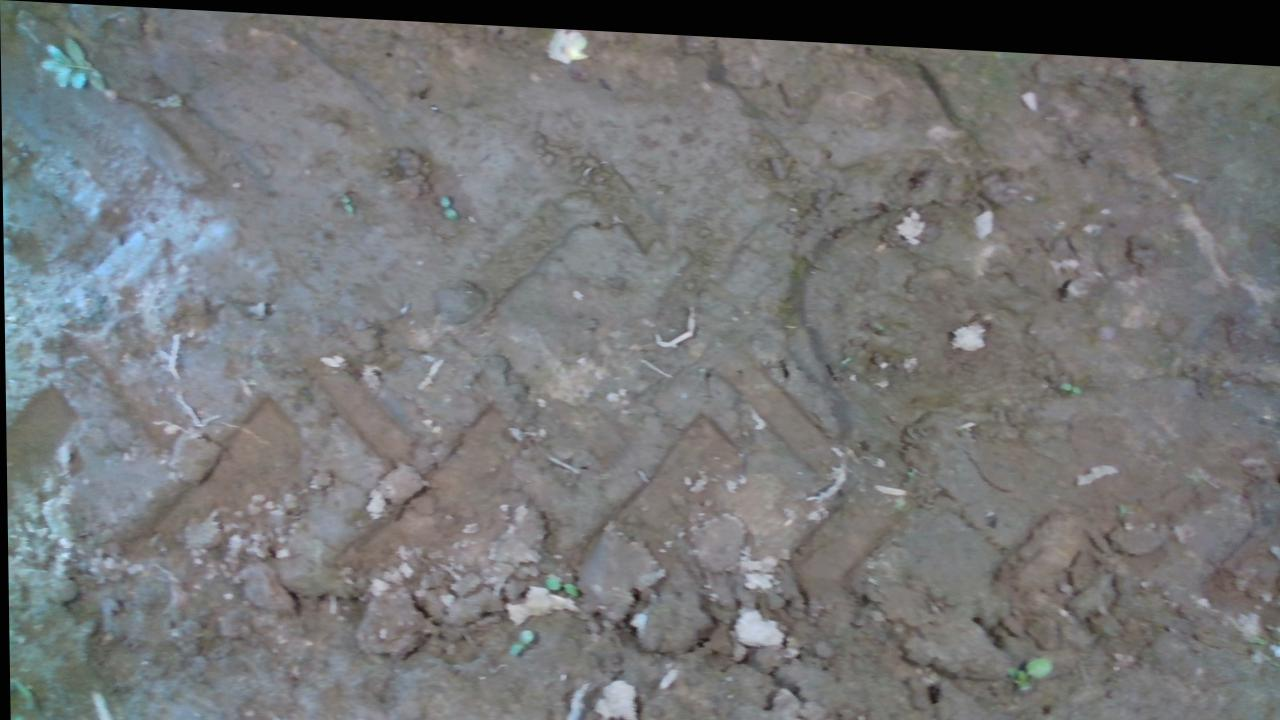weed: (504, 619, 532, 652), (437, 189, 457, 215), (337, 188, 353, 212), (1058, 369, 1081, 383)
